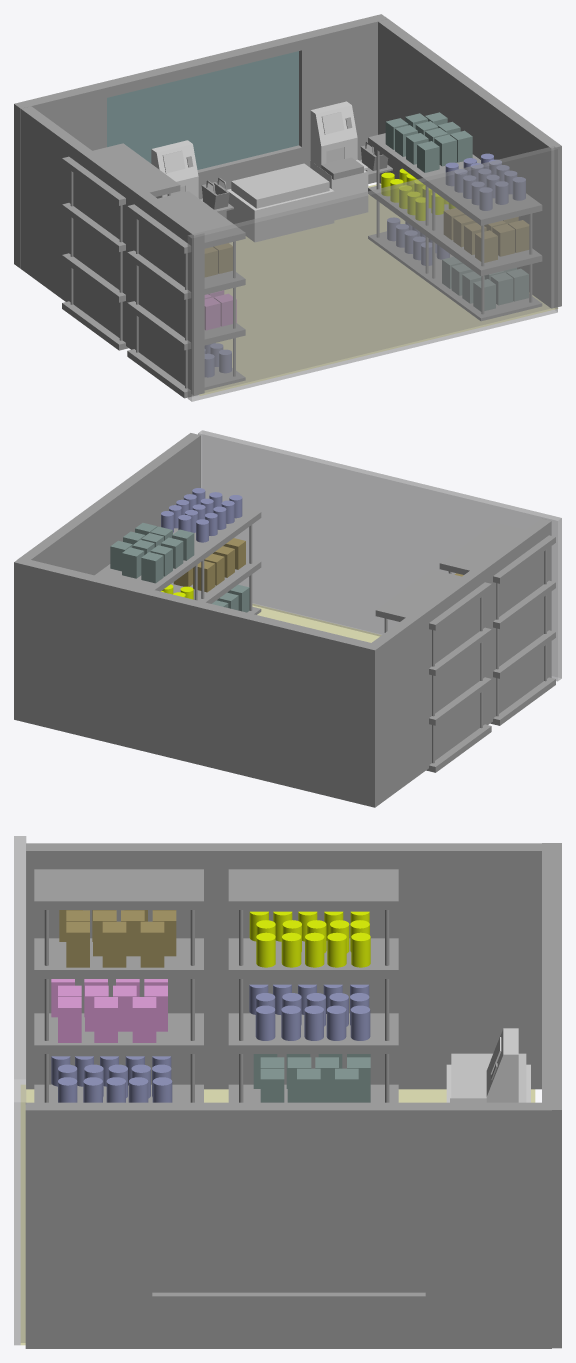
File: store.fbx
The picture shows the model from 3 angles, top to bottom: view 1: azimuth 30°, elevation 25°; view 2: azimuth 150°, elevation 25°; view 3: azimuth 270°, elevation 25°; orthographic projection. The views are drawn at different scales.
Parts seen in each view (by area): view 1: wall1, wall, pPlane1, wall_2, wall_3, shelf_top (×2), shelf_mid_1 (×3), screen (×2), shelf_bottom (×4), shelf_mid_2 (×3), check_out_machine_desk, machine_desk_top (+7 smaller); view 2: wall, wall1, wall_2, wall_3, shelf_top (×2), shelf_mid_1 (×3), shelf, shelf_mid_2 (×2), shelf_bottom (×2), pPlane1, pCube4 (×2), pCube5; view 3: wall_3, wall_2, shelf_top (×2), shelf, wall, wall1, shelf_mid_1, shelf_mid_2, pCube12 (×3), pCube10 (×3), pCube9 (×3), pPlane1 (+13 smaller).
Boxes of the visible parts, bbox=[...] form: wall1: bbox=[187, 146, 557, 401]; wall: bbox=[14, 14, 387, 268]; pPlane1: bbox=[199, 183, 558, 395]; wall_2: bbox=[21, 106, 204, 395]; wall_3: bbox=[378, 19, 561, 308]; shelf_top (×2): bbox=[62, 143, 245, 253]; shelf_mid_1 (×3): bbox=[127, 133, 541, 299]; screen (×2): bbox=[151, 101, 357, 198]; shelf_bottom (×4): bbox=[62, 231, 541, 398]; shelf_mid_2 (×3): bbox=[127, 185, 541, 350]; check_out_machine_desk: bbox=[226, 188, 334, 241]; machine_desk_top: bbox=[231, 163, 329, 208]; wall: bbox=[14, 557, 381, 807]; wall1: bbox=[198, 430, 561, 681]; wall_2: bbox=[372, 518, 551, 802]; wall_3: bbox=[19, 433, 200, 575]; shelf_top (×2): bbox=[375, 522, 555, 630]; shelf_mid_1 (×3): bbox=[94, 507, 555, 628]; shelf: bbox=[384, 596, 491, 763]; shelf_mid_2 (×2): bbox=[171, 558, 555, 678]; shelf_bottom (×2): bbox=[426, 677, 555, 772]; pPlane1: bbox=[252, 604, 381, 642]; pCube4 (×2): bbox=[141, 552, 215, 592]; pCube5: bbox=[122, 547, 144, 578]; wall_3: bbox=[25, 1102, 551, 1348]; wall_2: bbox=[26, 843, 541, 1089]; shelf_top (×2): bbox=[34, 869, 398, 909]; shelf: bbox=[228, 910, 398, 1102]; wall: bbox=[542, 843, 561, 1348]; wall1: bbox=[14, 836, 26, 1345]; shelf_mid_1: bbox=[34, 938, 203, 978]; shelf_mid_2: bbox=[34, 1013, 203, 1053]; pCube12 (×3): bbox=[132, 921, 358, 1102]; pCube10 (×3): bbox=[94, 921, 320, 1102]; pCube9 (×3): bbox=[58, 921, 284, 1102]; pPlane1: bbox=[20, 1084, 535, 1345].
Bounding box in the file's own units: 6.12 × 2.57 × 5.2.
